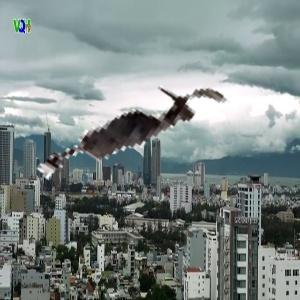drone: (8, 26, 231, 249)
